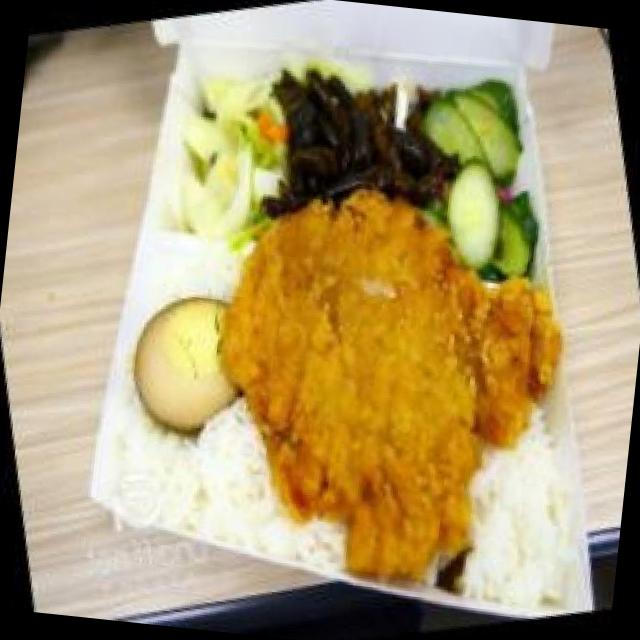fried_chicken: (171, 134, 627, 632)
rice: (467, 448, 587, 608), (154, 420, 278, 550)
